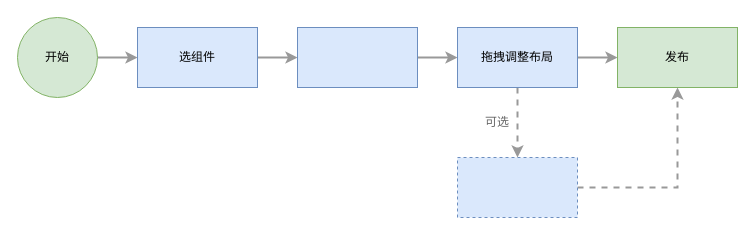
This 755x235 diagram has some shape labels left out. The centre of each missing label's shape, as x and y in pixels:
在线二次开发: point 517,187
选数据 (接口/SQL/静态): point 357,57
